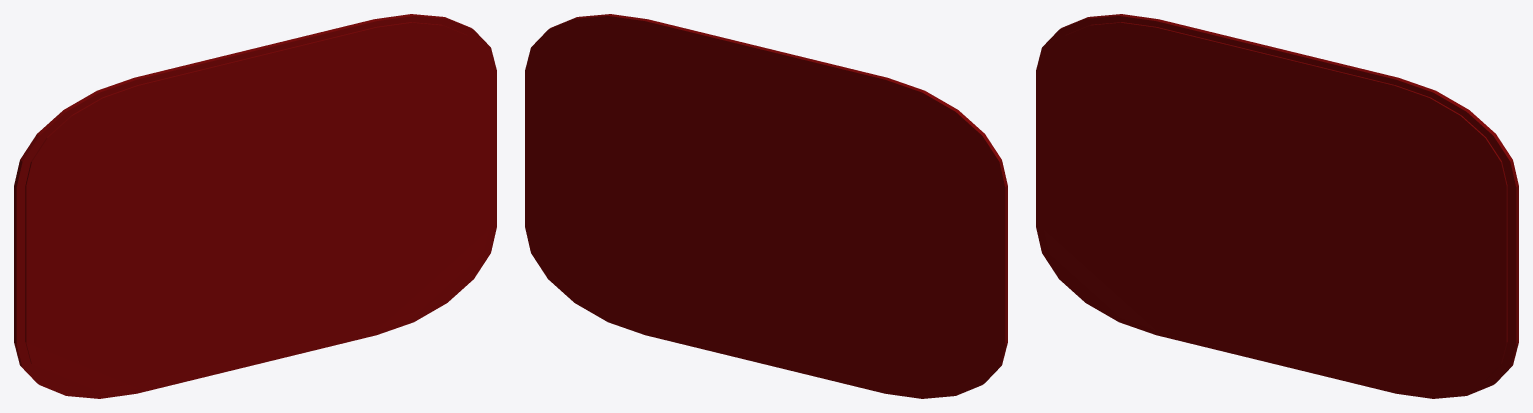
Rendered from mast_base_up.dae.
The picture shows the model from 3 angles, left to right: view 1: azimuth 30°, elevation 25°; view 2: azimuth 150°, elevation 25°; view 3: azimuth 330°, elevation 25°; orthographic projection.
Parts seen in each view (by area): view 1: Cube.111; view 2: Cube.111; view 3: Cube.111.
Boxes of the visible parts, x1,y1,x2,y2 form: Cube.111: [14, 14, 496, 398]; Cube.111: [525, 14, 1007, 398]; Cube.111: [1036, 14, 1518, 398].
Bounding box in the file's own units: 1.6 × 0.02 × 1.
